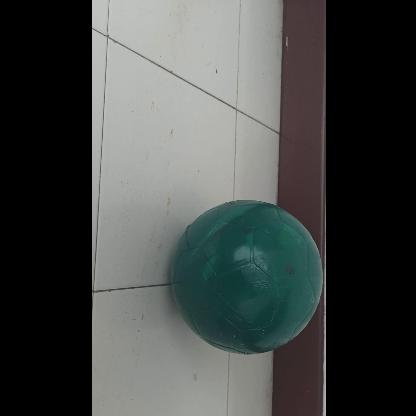green_ball: (168, 199, 322, 353)
